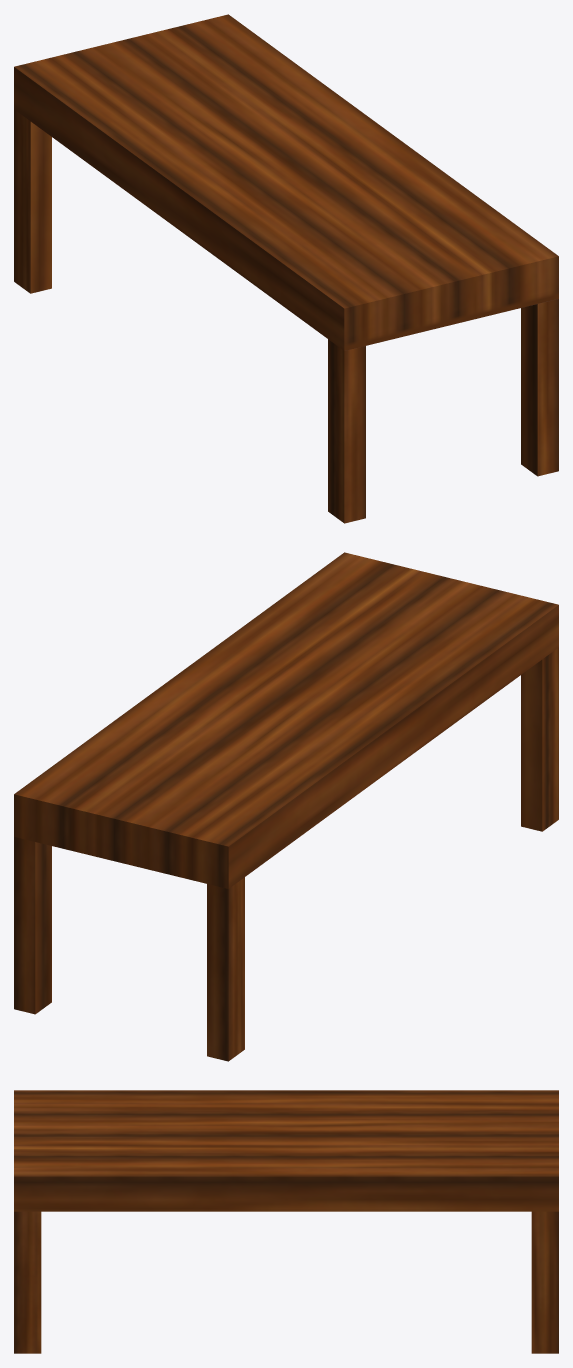
Rendered from co_TableWoodRect_01.fbx.
The picture shows the model from 3 angles, top to bottom: view 1: azimuth 30°, elevation 25°; view 2: azimuth 150°, elevation 25°; view 3: azimuth 270°, elevation 25°; orthographic projection. The views are drawn at different scales.
Parts seen in each view (by area): view 1: TableWoodRect_01; view 2: TableWoodRect_01; view 3: TableWoodRect_01.
Part boxes in pixels (x1=…): TableWoodRect_01: x1=14, y1=14, x2=558, y2=523; TableWoodRect_01: x1=14, y1=552, x2=558, y2=1061; TableWoodRect_01: x1=14, y1=1090, x2=558, y2=1353.
Bounding box in the file's own units: 216 × 207 × 576.
